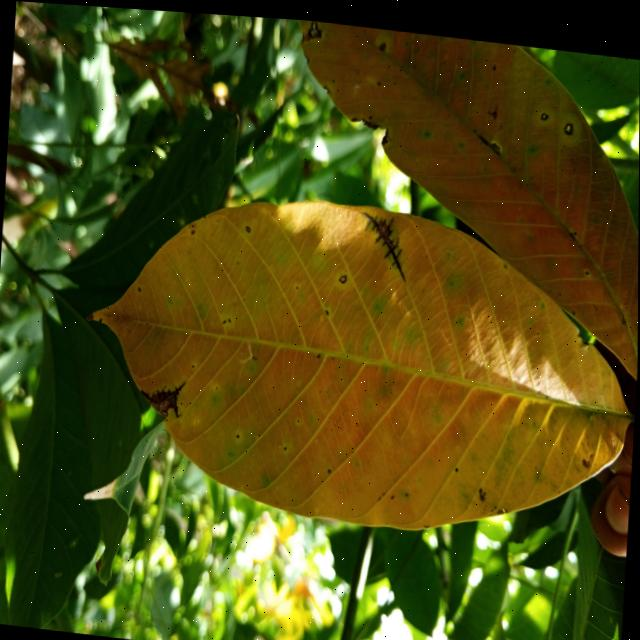Colletotrichum: (563, 113, 575, 127), (379, 35, 387, 46), (339, 269, 348, 278), (541, 104, 549, 113), (247, 222, 251, 228), (325, 305, 329, 310), (139, 285, 142, 289), (329, 464, 332, 468), (285, 442, 288, 445), (238, 430, 240, 434), (193, 362, 195, 364)
Corynespora: (358, 204, 411, 278), (141, 375, 187, 417)
